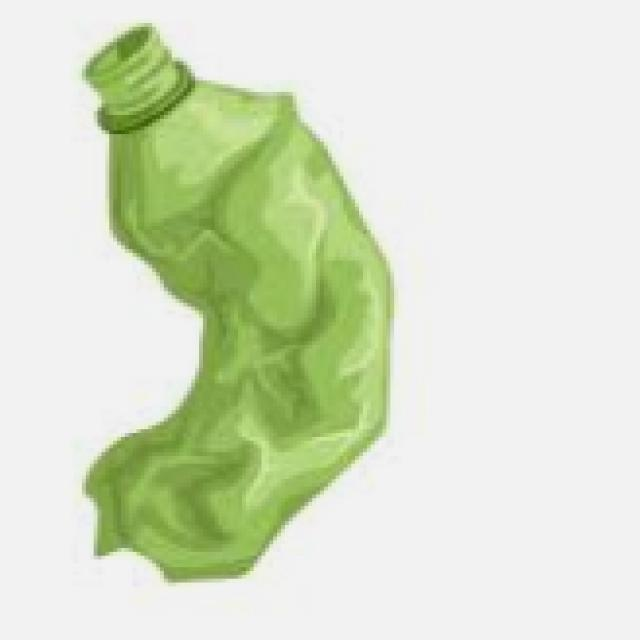Recycle: (74, 26, 394, 584)
